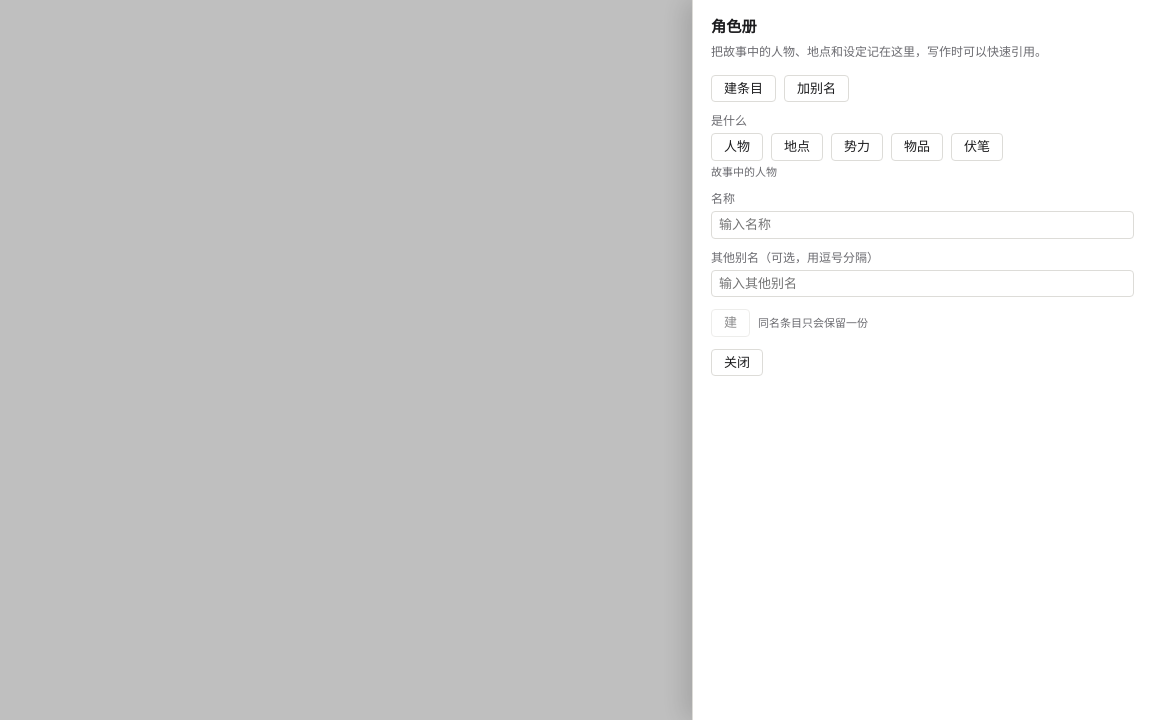
Test case: 角色册抽屉 › 1 字别名用于识别正文时，在提交前给出清楚提示
Click the button "加别名" at {"x": 816, "y": 89}, box [784,75,849,102]
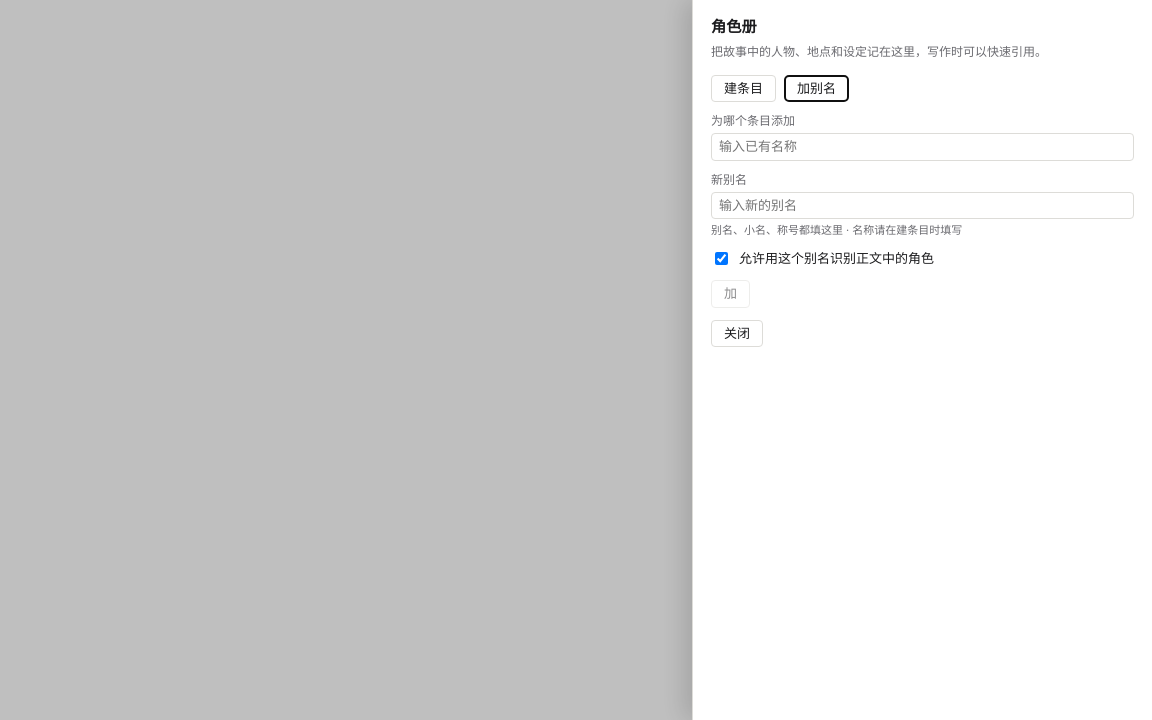
Type "名" into the field with placeholder "输入新的别名" at {"x": 922, "y": 206}, box [711,192,1134,219]
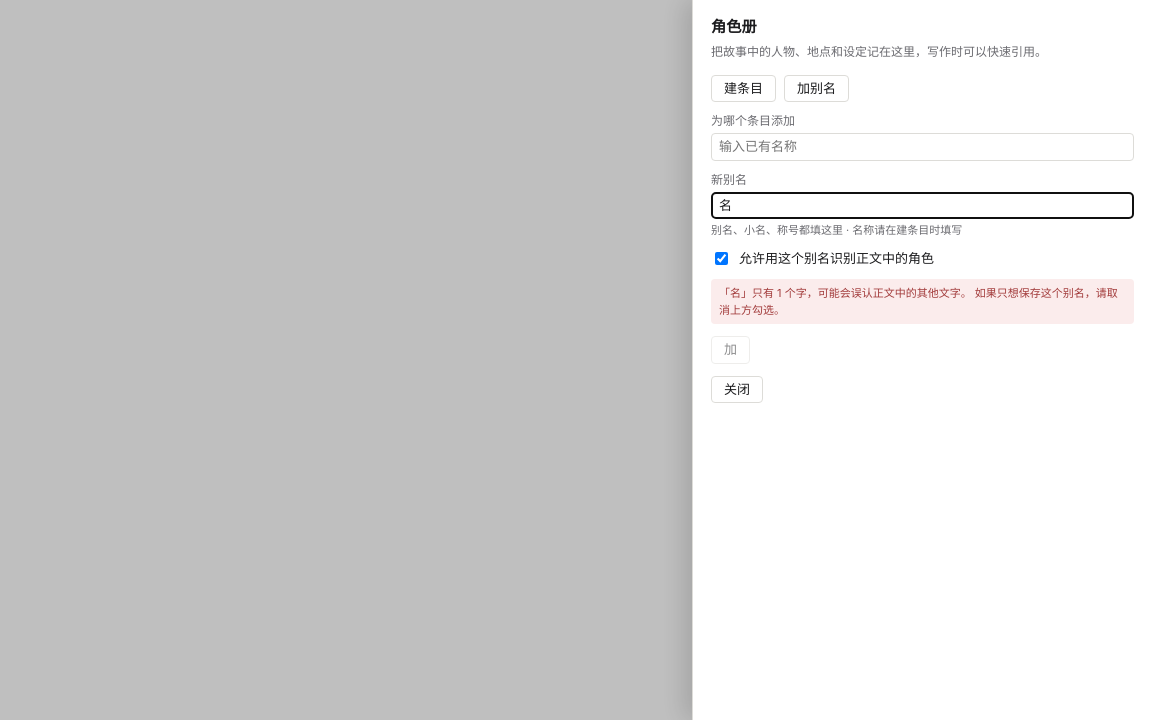
Now the checkbox is checked, box [715,252,728,265]
Now the text "「名」只有 1 个字，可能会误认正文中的其他文字。 如果只想保存这个别名，请取消上方勾选。" is shown, box [711,279,1134,324]
